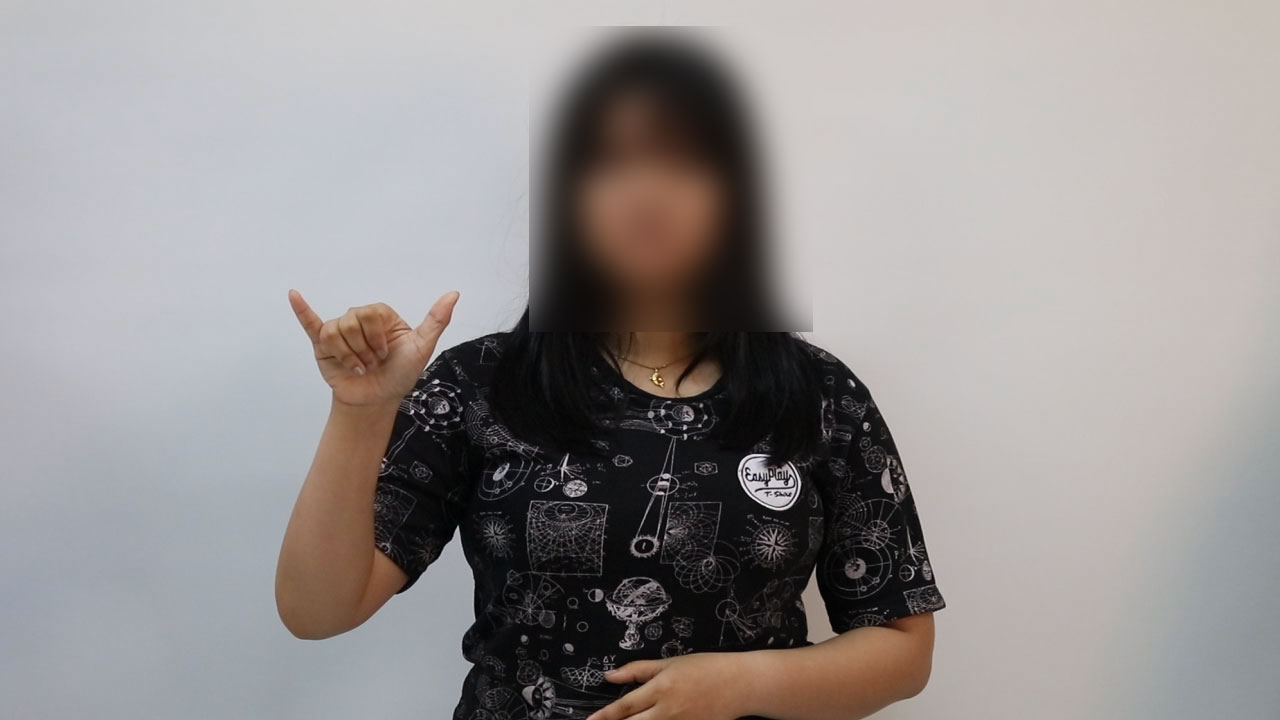yor: (276, 274, 468, 413)
